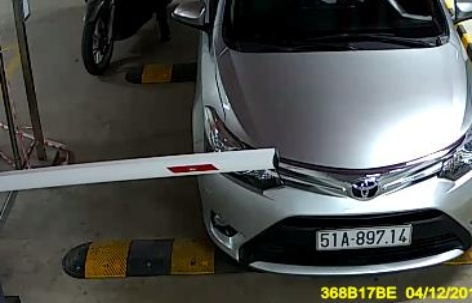plate: (313, 220, 416, 253)
